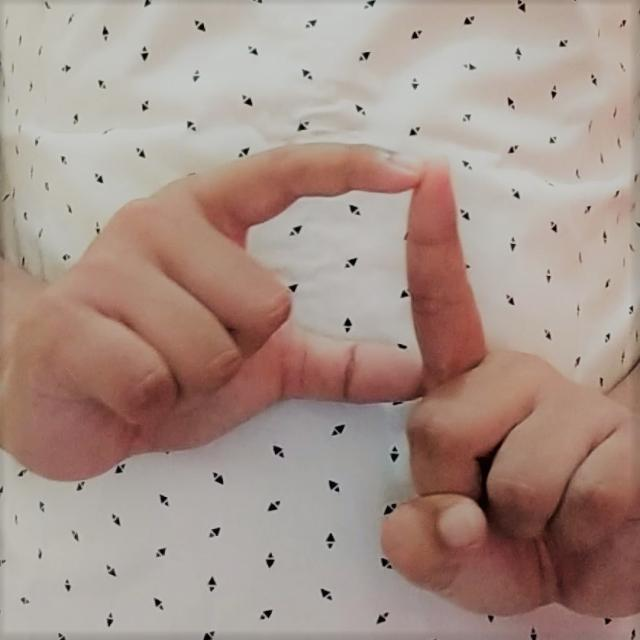D: (18, 135, 636, 628)
